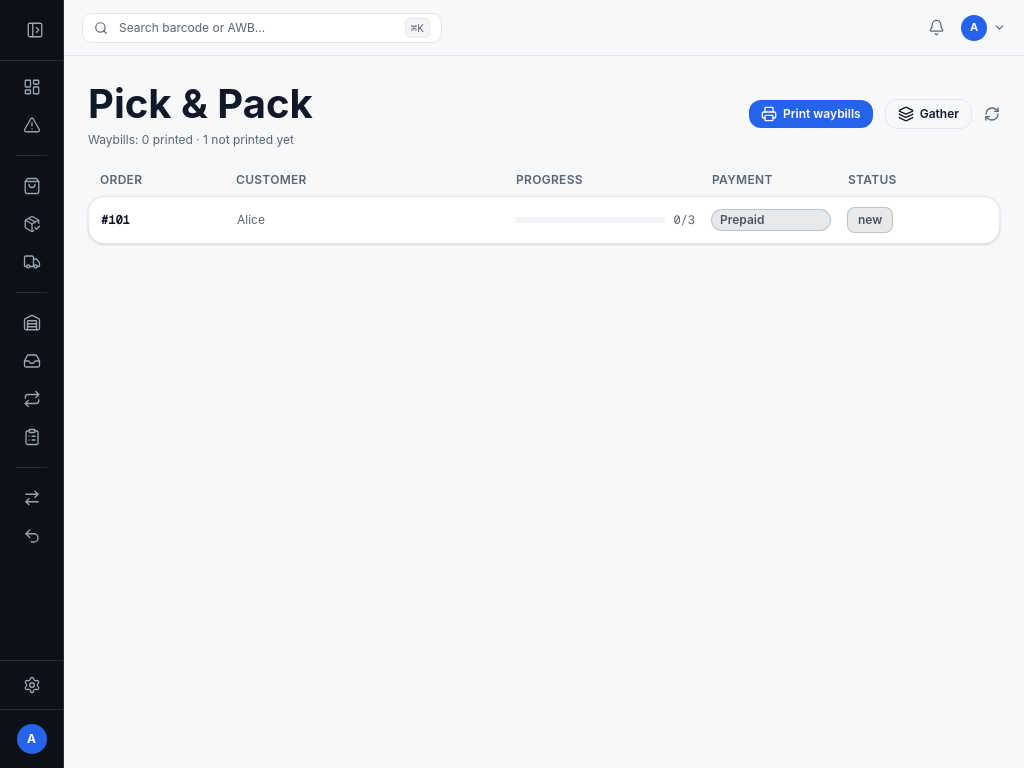
Test: off: places switched off › off: pick screen renders exactly as before, no places request
The image size is (1024, 768).
Click the text "#101" at (115, 220), box left=101, top=212, right=130, bottom=228
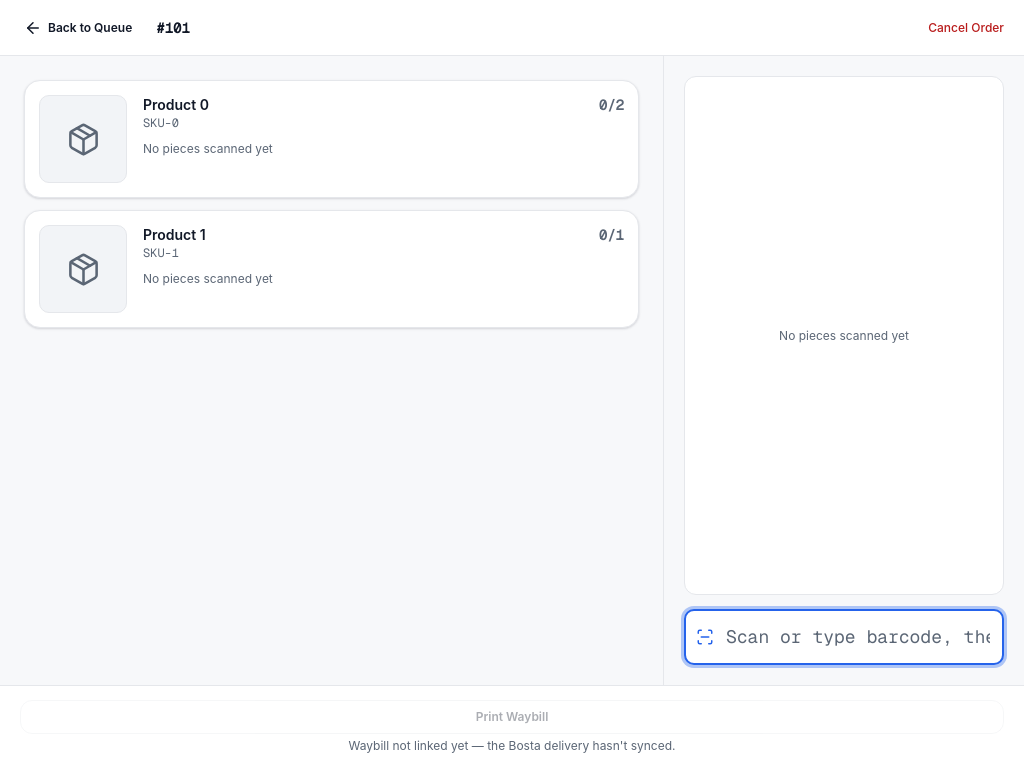
Check: the element with test id "fulfill-pick" is shown
